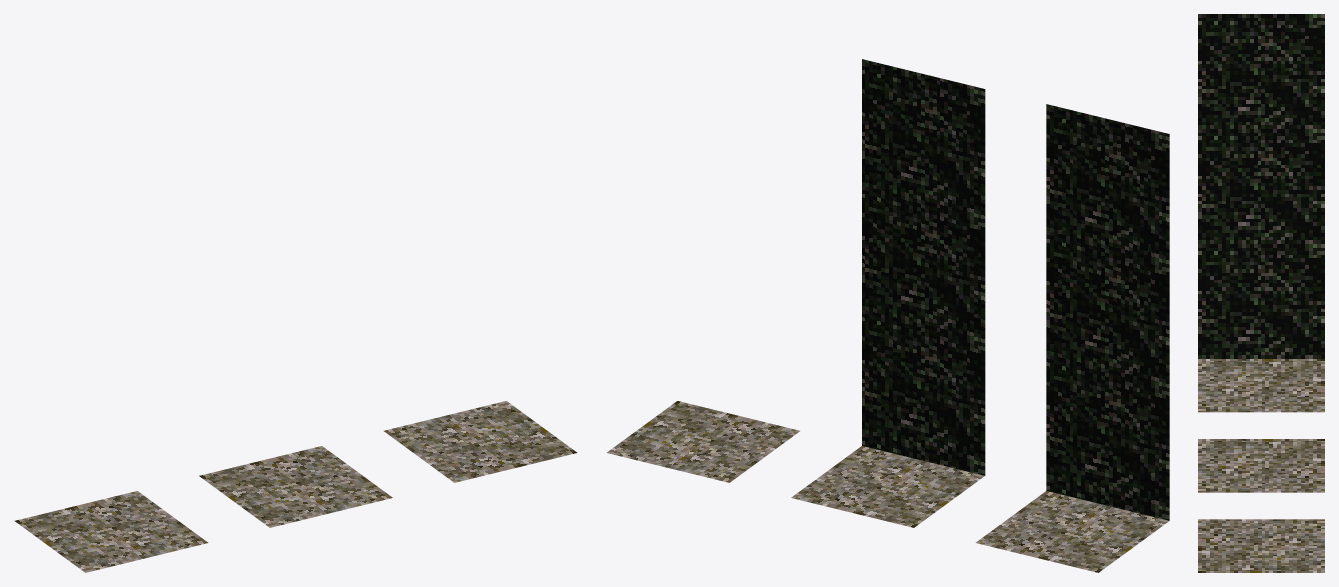
File: tiles.glb
3 views of the same model, side by side, from view 1: azimuth 30°, elevation 25°; view 2: azimuth 150°, elevation 25°; view 3: azimuth 270°, elevation 25° (orthographic). The views are drawn at different scales.
Visible parts, largest first — view 1: Wall_Corner-col, Floor-col, Wall-col; view 2: Wall_Corner-col, Wall-col, Floor-col; view 3: Wall_Corner-col, Floor-col, Wall-col.
Boxes of the visible parts, <box> form: Wall_Corner-col: <box>15,491,208,572</box>; Floor-col: <box>384,401,577,482</box>; Wall-col: <box>199,446,392,527</box>; Wall_Corner-col: <box>975,104,1169,572</box>; Wall-col: <box>791,59,985,527</box>; Floor-col: <box>606,401,799,482</box>; Wall_Corner-col: <box>1198,14,1324,412</box>; Floor-col: <box>1198,519,1324,572</box>; Wall-col: <box>1198,439,1324,492</box>.
Size of the model in its own units: 3.99 by 3 by 1.
2 materials, 2 textured.
